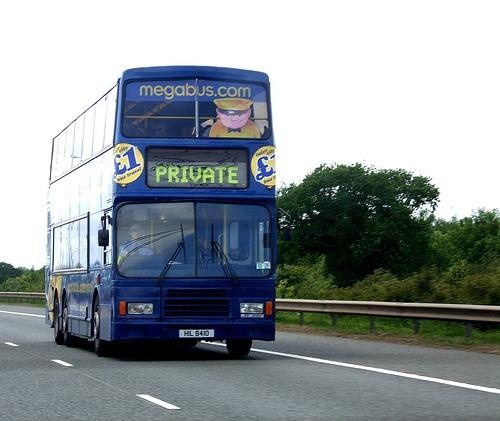bus: (43, 66, 279, 363)
